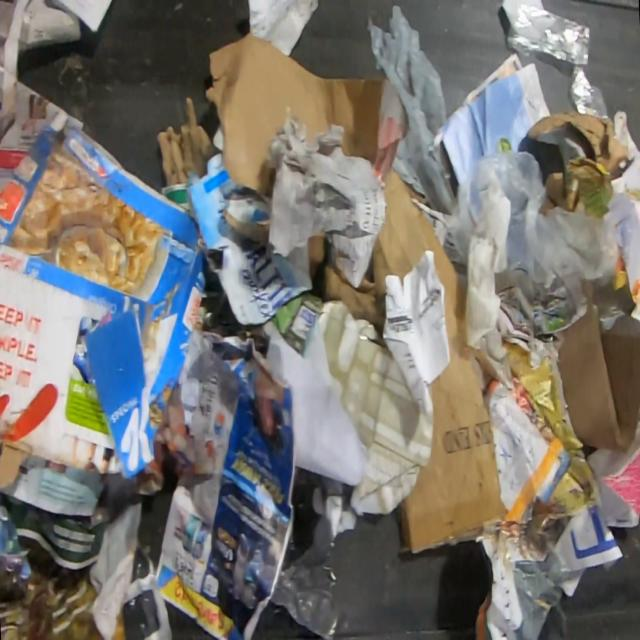cardboard: (0, 113, 206, 478), (370, 168, 503, 552), (262, 252, 449, 515), (204, 32, 386, 196), (185, 152, 315, 325), (554, 300, 640, 451), (527, 109, 628, 211), (156, 98, 220, 186)
soft_plastic: (448, 148, 638, 361), (366, 5, 452, 212), (506, 0, 590, 65), (568, 65, 607, 118)
